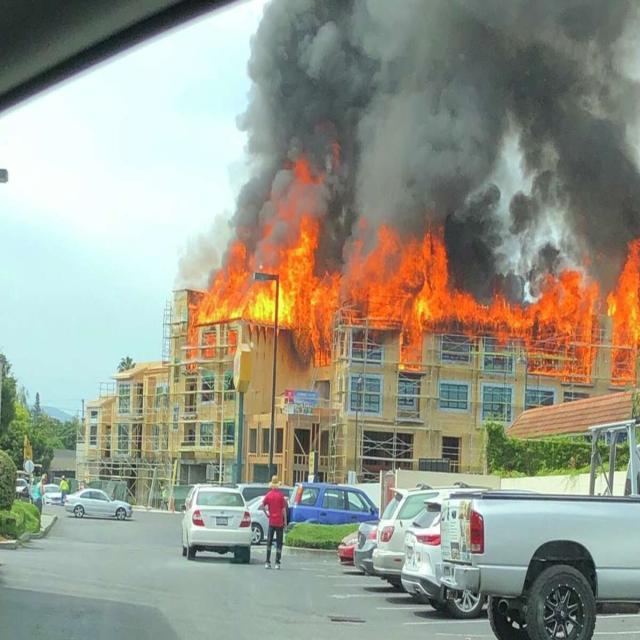Fire: (369, 235, 640, 373), (172, 194, 370, 372)
Smoke: (204, 0, 639, 237)
